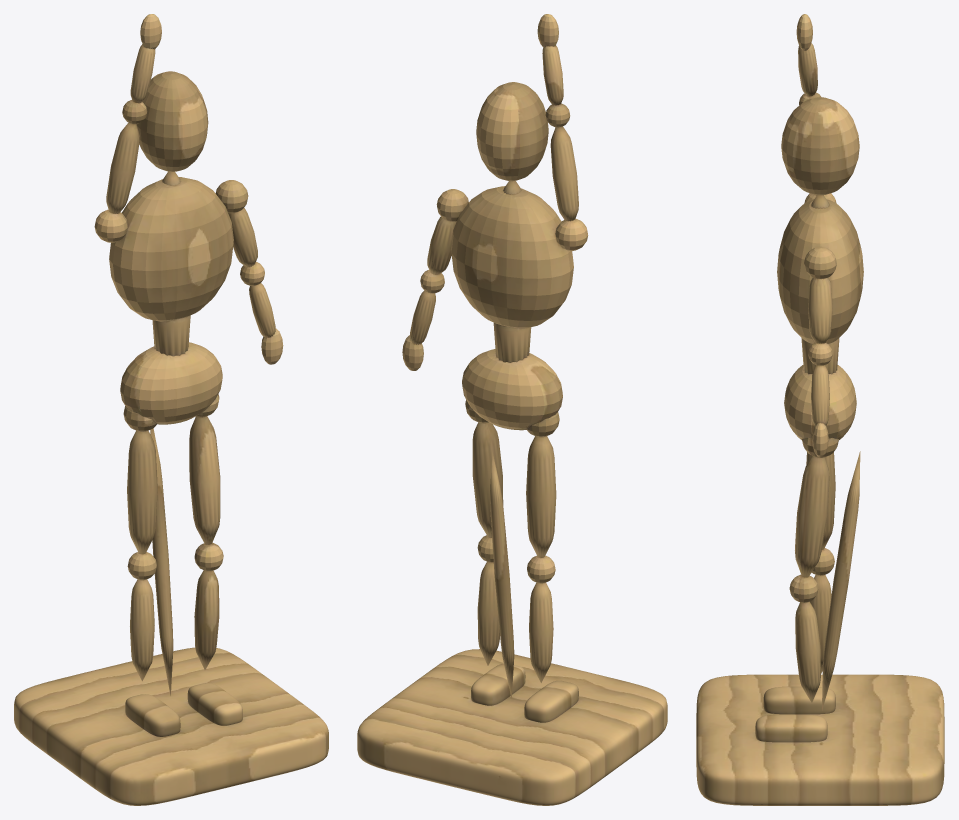
File: reaching.glb
3 renders of one model, left to right at view 1: azimuth 30°, elevation 25°; view 2: azimuth 150°, elevation 25°; view 3: azimuth 270°, elevation 25°, orthographic.
Visible parts, largest first — view 1: mannequin_wood; view 2: mannequin_wood; view 3: mannequin_wood.
Boxes of the visible parts, x1,y1,x2,y2 form: mannequin_wood: (14, 14, 328, 805); mannequin_wood: (357, 14, 667, 805); mannequin_wood: (696, 14, 944, 805).
Bounding box in the file's own units: 0.1209 × 0.3901 × 0.12.
Materials: 1 (1 with a texture image).
